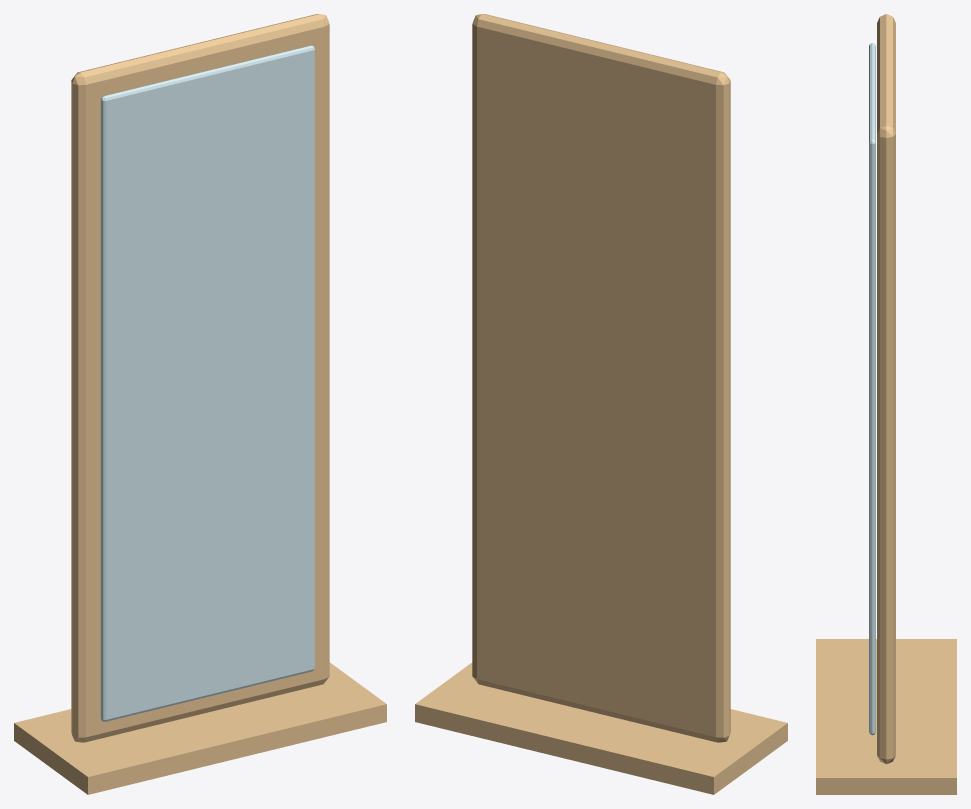
Rendered from cozy-home-interiors-dressing-mirror-3cb85352.glb.
3 renders of one model, left to right at view 1: azimuth 30°, elevation 25°; view 2: azimuth 150°, elevation 25°; view 3: azimuth 270°, elevation 25°, orthographic. The views are drawn at different scales.
Parts seen in each view (by area): view 1: dressing-mirror; view 2: dressing-mirror; view 3: dressing-mirror.
Boxes of the visible parts, x1,y1,x2,y2 form: dressing-mirror: [14, 14, 386, 794]; dressing-mirror: [415, 14, 787, 794]; dressing-mirror: [816, 14, 956, 794].
Size of the model in its own units: 0.6999 by 1.54 by 0.3.
